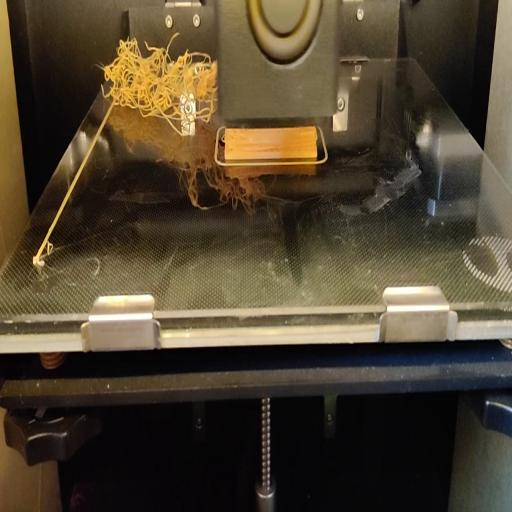spaghetti: (102, 33, 222, 134)
